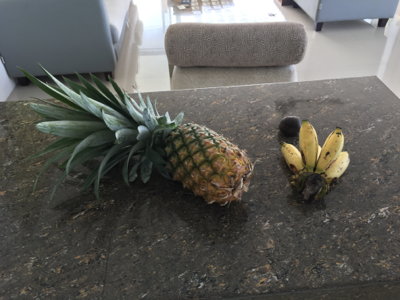banana: (281, 120, 350, 201)
pineapple: (19, 59, 253, 208)
snake fruit: (279, 113, 301, 135)
